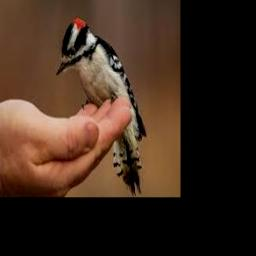Woodpecker: (56, 17, 146, 197)
